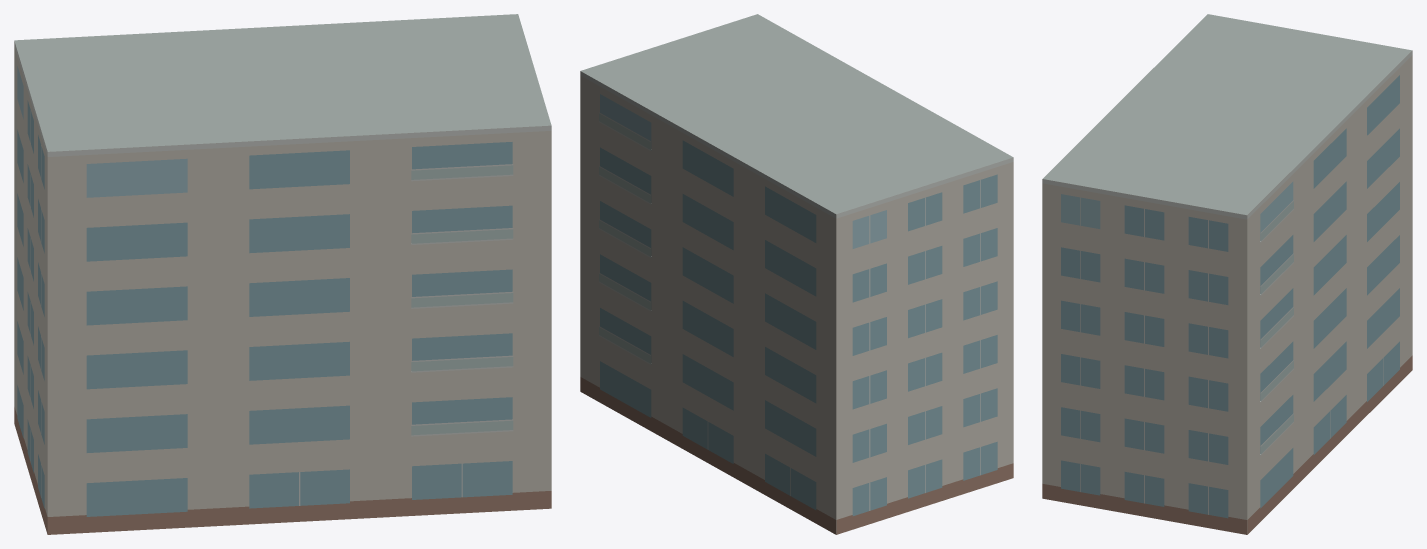
File: survey-upis-32664336.glb
3 renders of one model, left to right at view 1: azimuth 30°, elevation 25°; view 2: azimuth 150°, elevation 25°; view 3: azimuth 270°, elevation 25°, orthographic. The views are drawn at different scales.
Parts seen in each view (by area): view 1: survey-upis-32664336.tmp; view 2: survey-upis-32664336.tmp; view 3: survey-upis-32664336.tmp.
Part boxes in pixels (left/top/right/bottom): survey-upis-32664336.tmp: left=14, top=14, right=551, bottom=534; survey-upis-32664336.tmp: left=580, top=14, right=1013, bottom=534; survey-upis-32664336.tmp: left=1042, top=14, right=1412, bottom=534.
Size of the model in its own units: 24.25 by 17.95 by 18.85.
